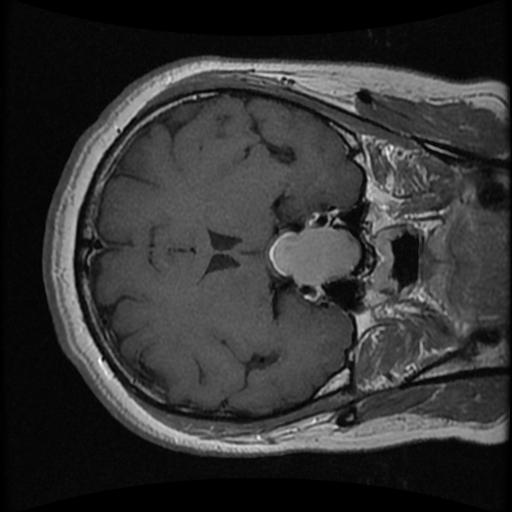pituitary tumour: (269, 227, 361, 287)
